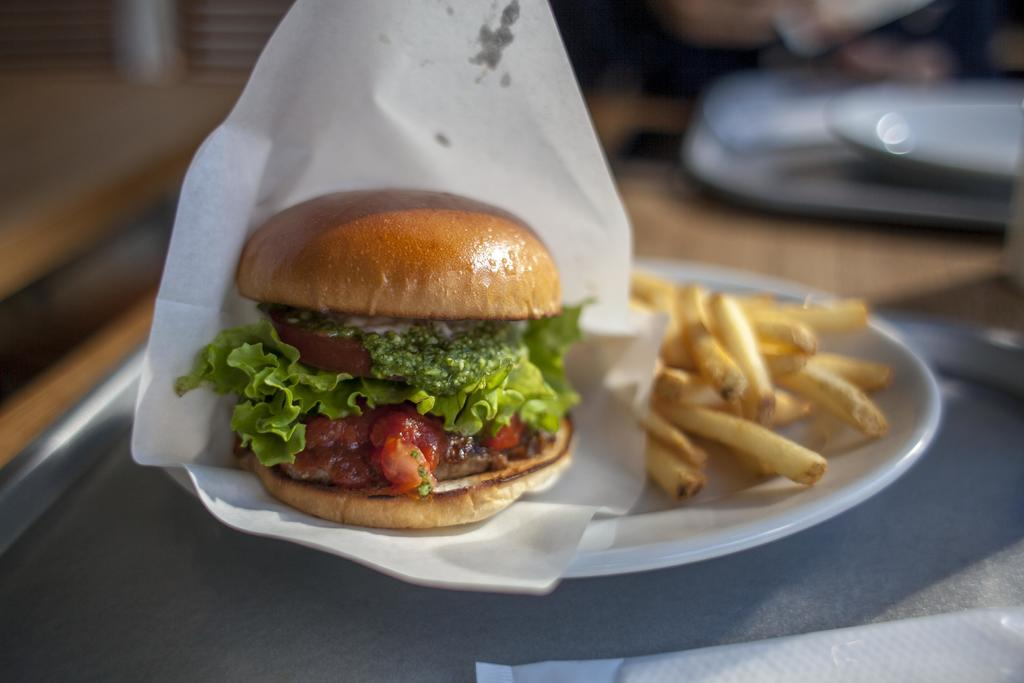French fries: (606, 272, 910, 504)
